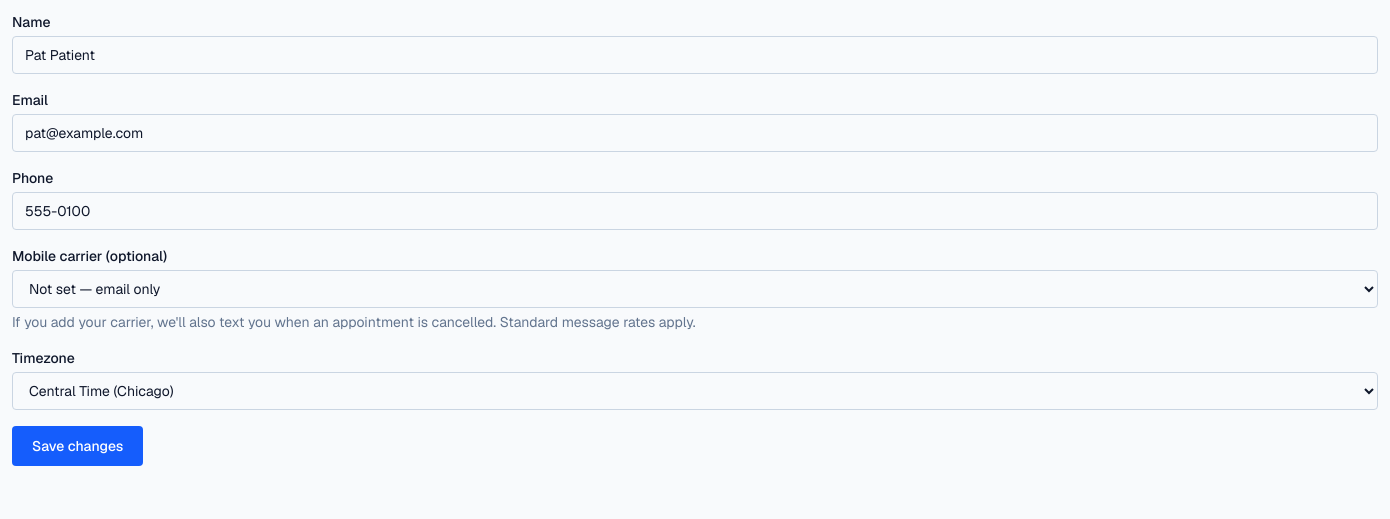
Test: ProfileForm › saves changes via PATCH /profile and shows a success message
The image size is (1390, 519).
Replace the text in the field labelled "Phone" with "555-0199" at (695, 211), box left=12, top=192, right=1378, bottom=230
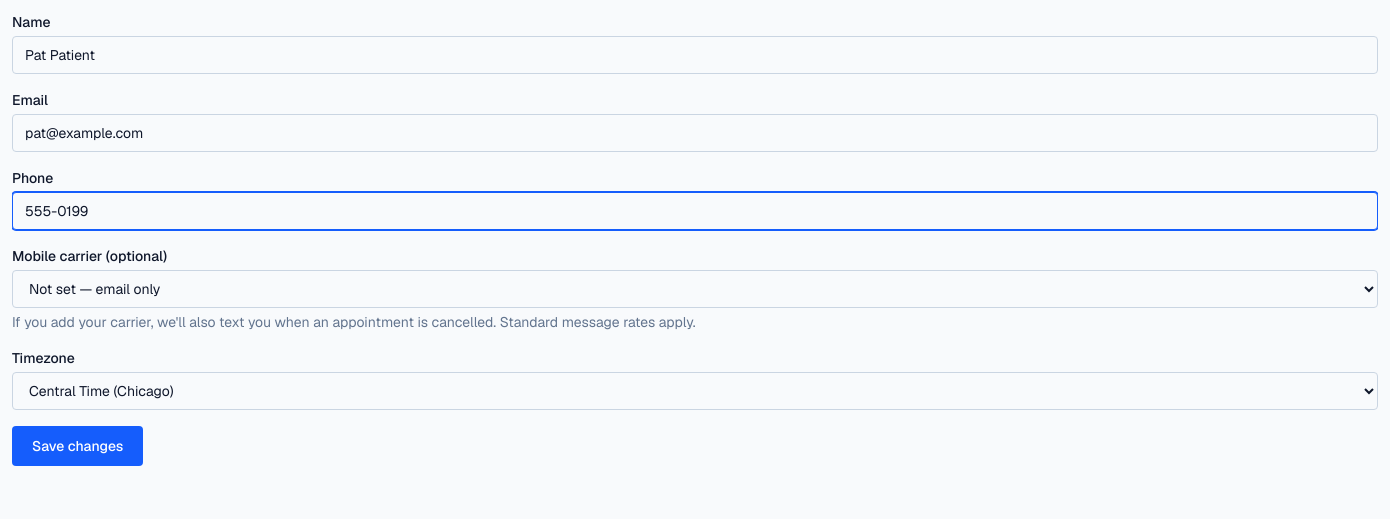
Click the button "Save changes" at (78, 446), box left=12, top=426, right=143, bottom=466
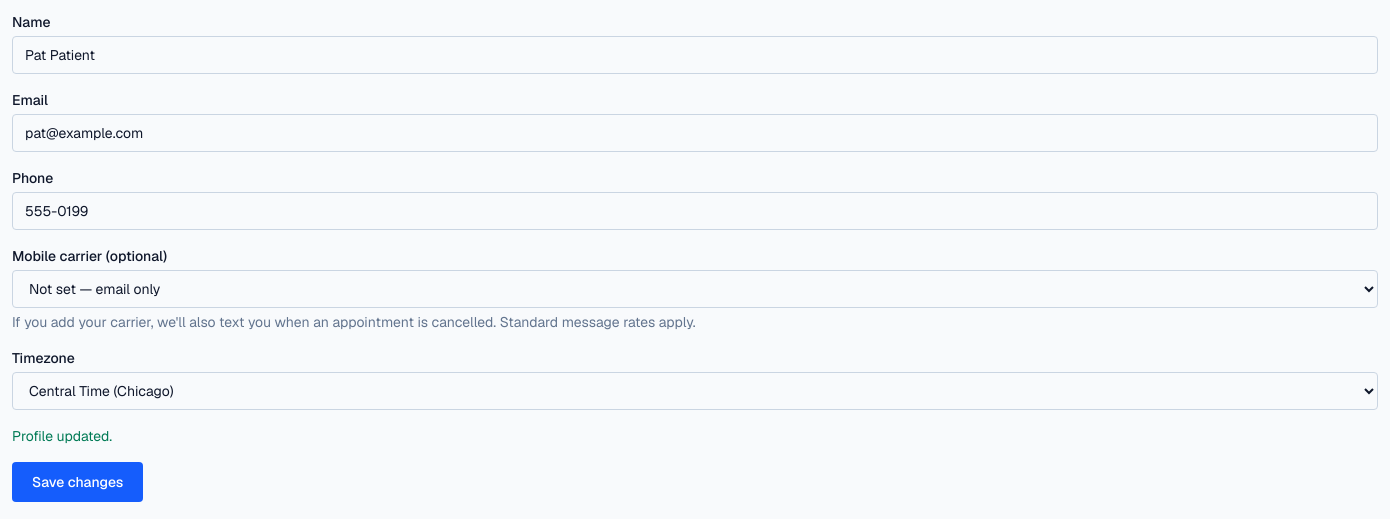
Check: the message shows "Profile updated", box left=12, top=427, right=112, bottom=445
